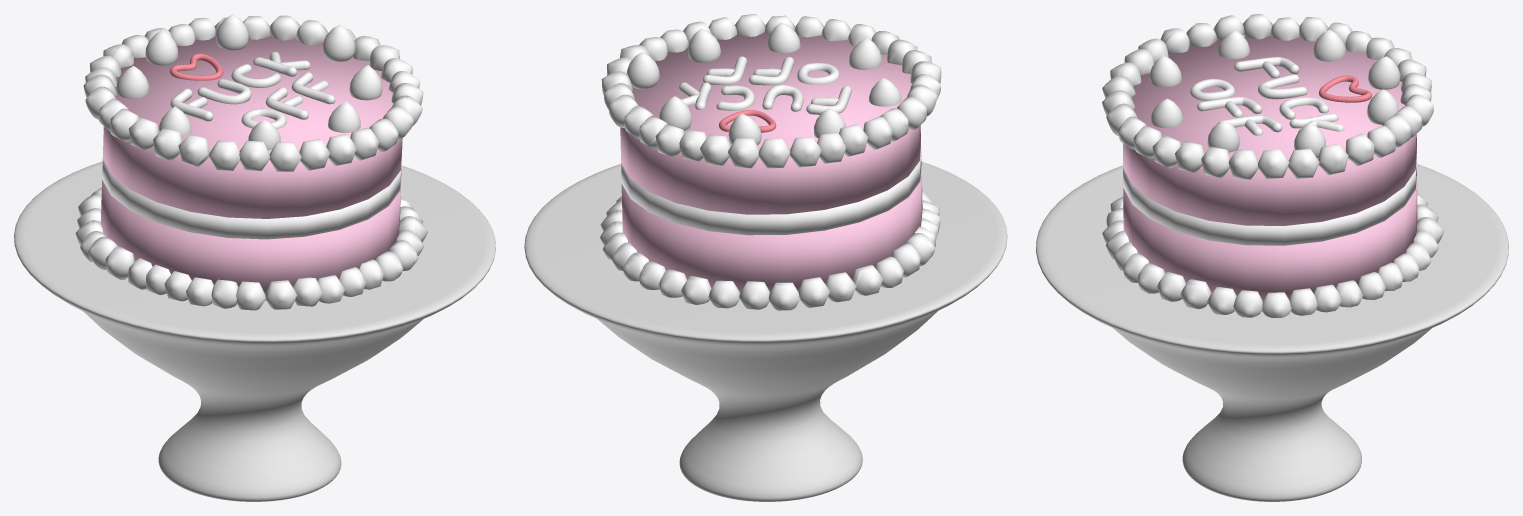
File: cake.glb
3 views of the same model, side by side, from view 1: azimuth 30°, elevation 25°; view 2: azimuth 150°, elevation 25°; view 3: azimuth 270°, elevation 25° (orthographic). The views are drawn at different scales.
Visible parts, largest first — view 1: cake; view 2: cake; view 3: cake.
Part boxes in pixels (left/top/right/bottom): cake: left=14, top=14, right=495, bottom=501; cake: left=524, top=14, right=1007, bottom=501; cake: left=1036, top=14, right=1508, bottom=501.
Size of the model in its own units: 6.24 by 5.79 by 6.24.
